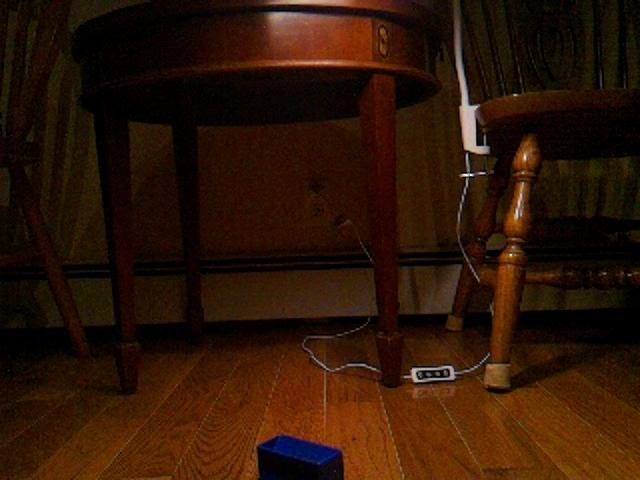blue: (254, 432, 346, 480)
